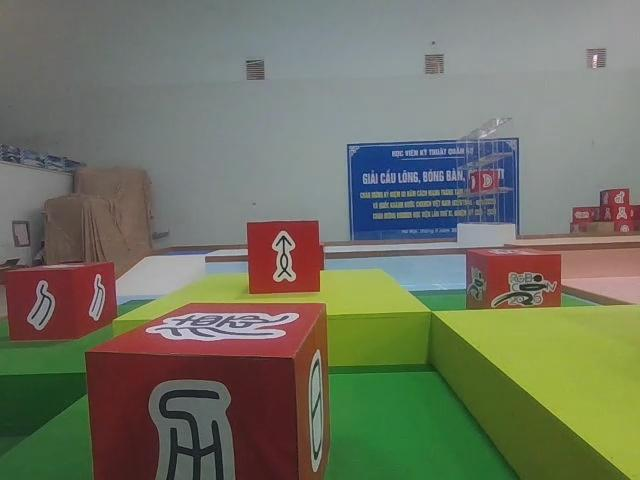R1: (460, 243, 565, 319)
R2 Fake: (83, 298, 332, 480)
R2 Real: (2, 257, 120, 343), (243, 217, 323, 297)
